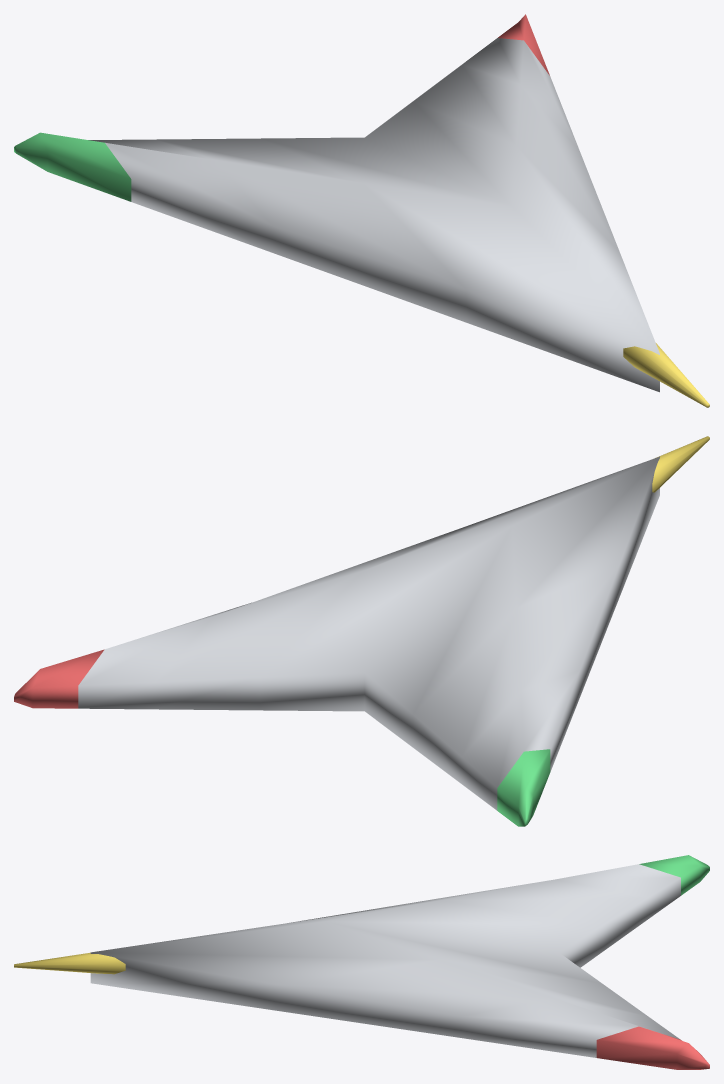
The model's file is ff-uav.glb.
The picture shows the model from 3 angles, top to bottom: view 1: azimuth 30°, elevation 25°; view 2: azimuth 150°, elevation 25°; view 3: azimuth 270°, elevation 25°; orthographic projection. The views are drawn at different scales.
Parts seen in each view (by area): view 1: part1, part0, part3, part2; view 2: part1, part0, part2, part3; view 3: part1, part2, part3, part0.
Part boxes in pixels (left/top/right/bottom): part1: left=88, top=38, right=659, bottom=392; part0: left=14, top=132, right=131, bottom=201; part3: left=623, top=343, right=709, bottom=407; part2: left=498, top=14, right=549, bottom=75; part1: left=78, top=456, right=659, bottom=810; part0: left=497, top=749, right=550, bottom=826; part2: left=14, top=649, right=104, bottom=708; part3: left=652, top=436, right=709, bottom=492; part1: left=90, top=864, right=680, bottom=1057; part2: left=596, top=1026, right=709, bottom=1069; part3: left=14, top=952, right=125, bottom=974; part0: left=639, top=855, right=709, bottom=895.
Bounding box in the file's own units: 0.484 × 0.0704 × 0.7194.
